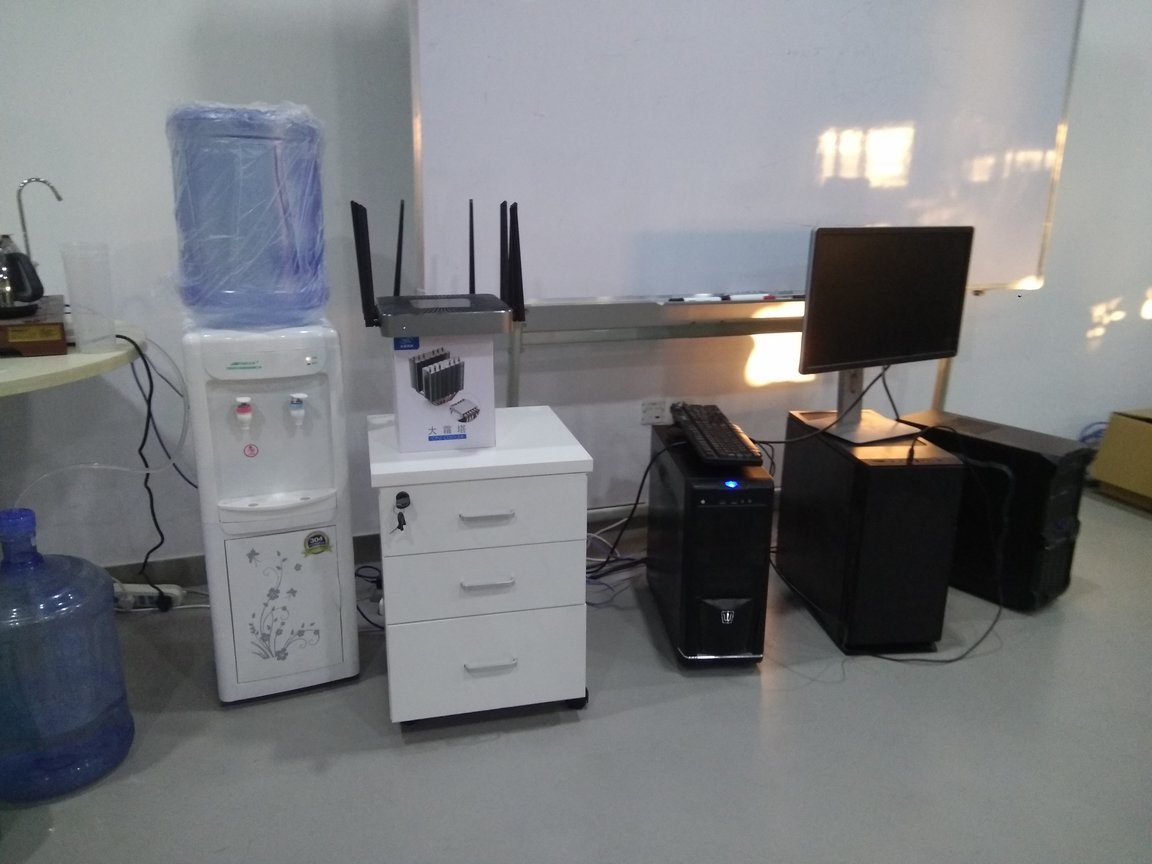computer: (782, 405, 973, 668), (900, 404, 1090, 638), (652, 419, 770, 679)
drawer chest: (368, 405, 594, 737)
monitor: (805, 220, 974, 442)
scuttlebutt: (1, 505, 143, 814), (158, 98, 331, 335)
water dispenser: (181, 318, 365, 699)
